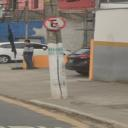NoEstacionar: (40, 15, 68, 32)
